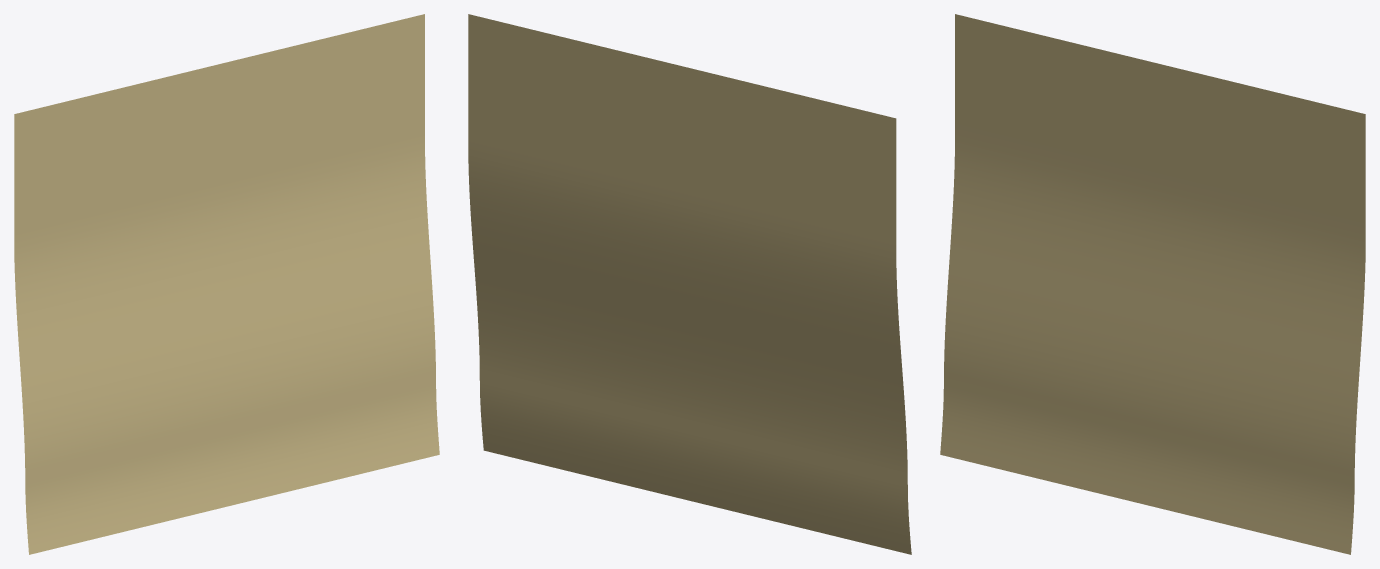
Rendered from island_terrain_07_08.obj.
3 views of the same model, side by side, from view 1: azimuth 30°, elevation 25°; view 2: azimuth 150°, elevation 25°; view 3: azimuth 330°, elevation 25° (orthographic). The views are drawn at different scales.
Parts seen in each view (by area): view 1: island_terrain_07_08; view 2: island_terrain_07_08; view 3: island_terrain_07_08.
Boxes of the visible parts, x1,y1,x2,y2 form: island_terrain_07_08: (14,14,439,554); island_terrain_07_08: (468,14,911,554); island_terrain_07_08: (940,14,1365,554).
Bounding box in the file's own units: 256 × 256 × 16.05.
